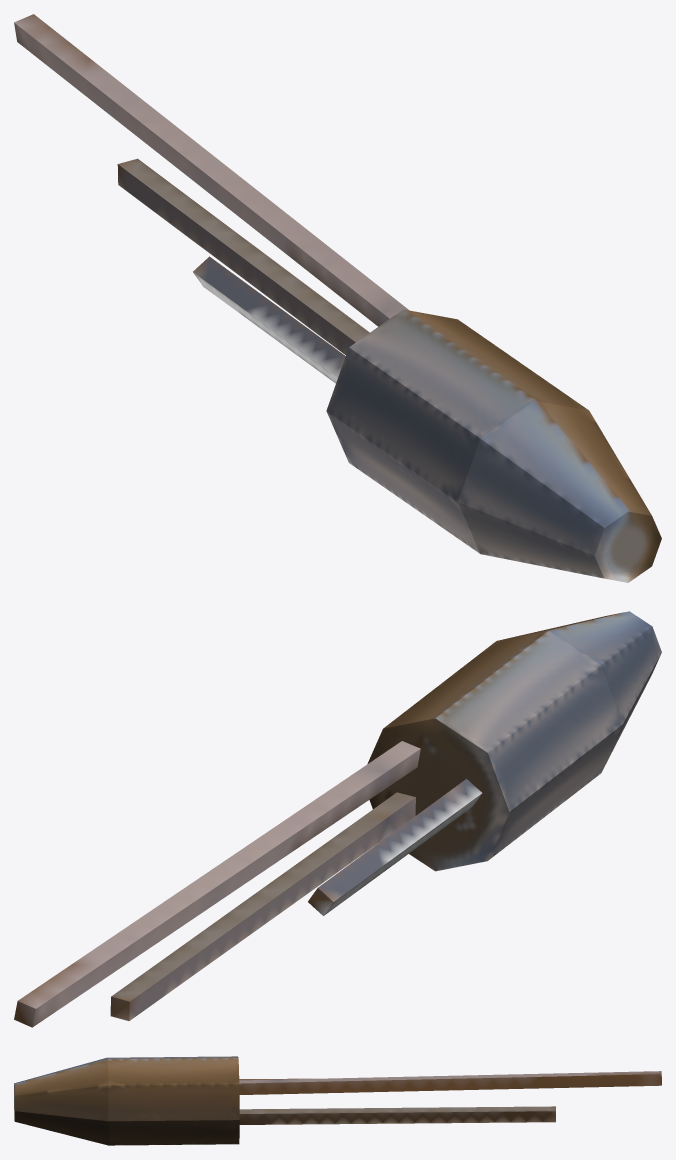
3 renders of one model, top to bottom at view 1: azimuth 30°, elevation 25°; view 2: azimuth 150°, elevation 25°; view 3: azimuth 270°, elevation 25°, orthographic. The views are drawn at different scales.
Parts seen in each view (by area): view 1: Bala_Cylinder.003, Estela_1_Cube.006, Estela_3_Cube.008, Estela_2_Cube.007; view 2: Bala_Cylinder.003, Estela_1_Cube.006, Estela_3_Cube.008, Estela_2_Cube.007; view 3: Bala_Cylinder.003, Estela_1_Cube.006, Estela_3_Cube.008.
Boxes of the visible parts, <box> form: Bala_Cylinder.003: <box>326,309,661,582</box>; Estela_1_Cube.006: <box>14,14,409,326</box>; Estela_3_Cube.008: <box>117,158,369,354</box>; Estela_2_Cube.007: <box>193,256,345,383</box>; Bala_Cylinder.003: <box>367,611,661,871</box>; Estela_1_Cube.006: <box>14,741,420,1027</box>; Estela_3_Cube.008: <box>110,792,415,1020</box>; Estela_2_Cube.007: <box>308,779,482,915</box>; Bala_Cylinder.003: <box>14,1056,239,1145</box>; Estela_1_Cube.006: <box>239,1071,661,1094</box>; Estela_3_Cube.008: <box>239,1106,555,1124</box>.
Size of what is drawn, in the model's own units: 0.2897 by 0.2805 by 1.94.
